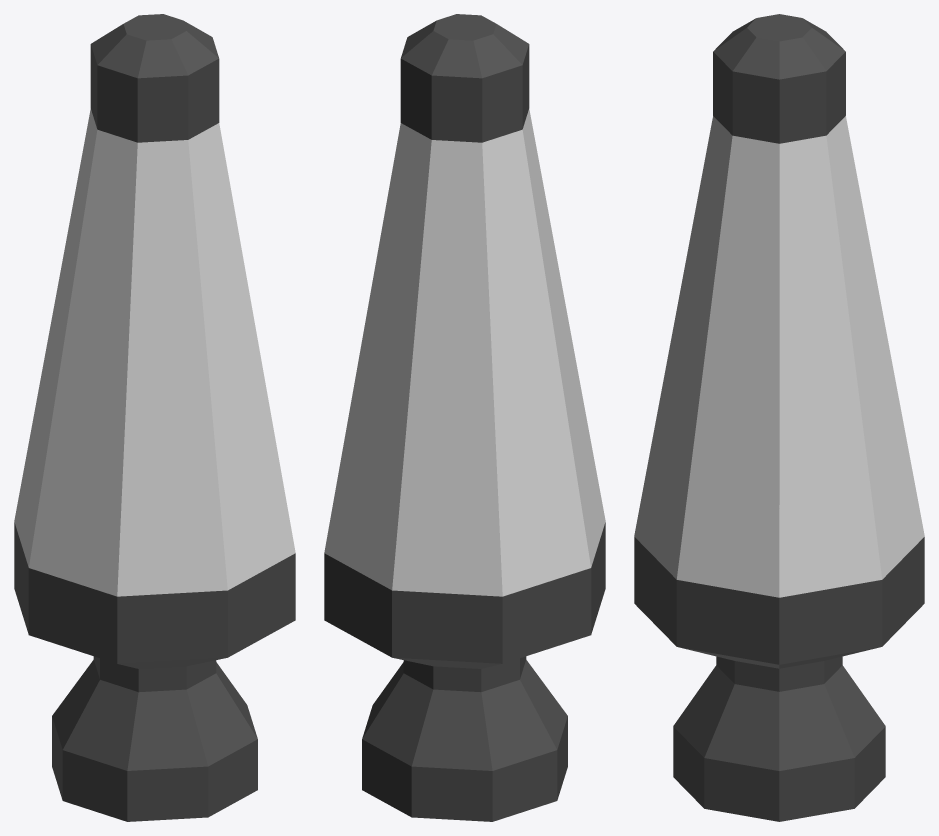
The model's file is Lamp.fbx.
3 views of the same model, side by side, from view 1: azimuth 30°, elevation 25°; view 2: azimuth 150°, elevation 25°; view 3: azimuth 270°, elevation 25° (orthographic).
Parts seen in each view (by area): view 1: Lamp.001, Lamp; view 2: Lamp.001, Lamp; view 3: Lamp.001, Lamp.
Boxes of the visible parts, x1,y1,x2,y2 form: Lamp.001: (14, 109, 295, 596); Lamp: (14, 14, 295, 821); Lamp.001: (324, 109, 605, 596); Lamp: (324, 14, 605, 821); Lamp.001: (634, 116, 924, 597); Lamp: (634, 14, 924, 821).
Size of the model in its own units: 99.94 by 284 by 99.94.
